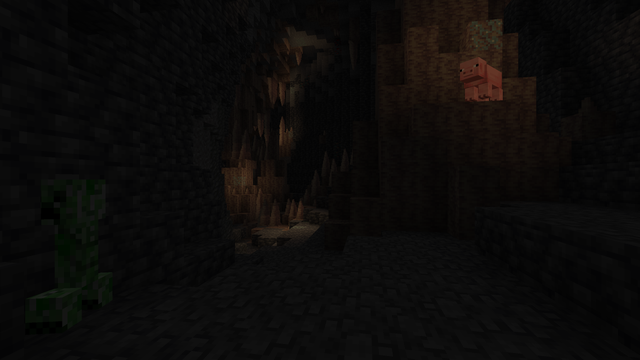cochons: (461, 63, 507, 101)
creepers: (31, 172, 112, 332)
